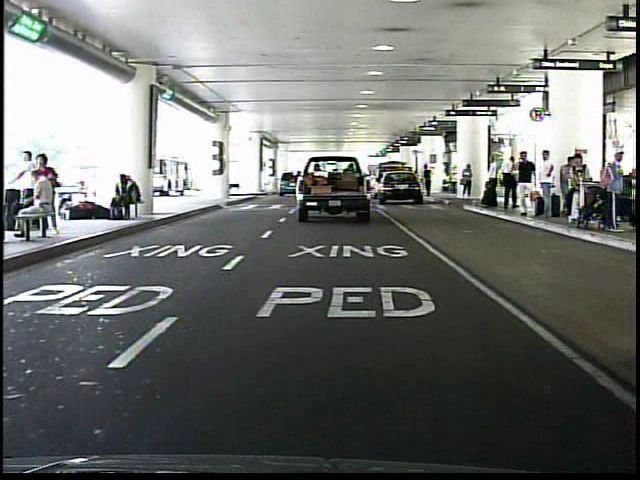person: (536, 147, 560, 224), (512, 150, 536, 224), (481, 152, 503, 214), (459, 162, 475, 203), (422, 162, 434, 199)
